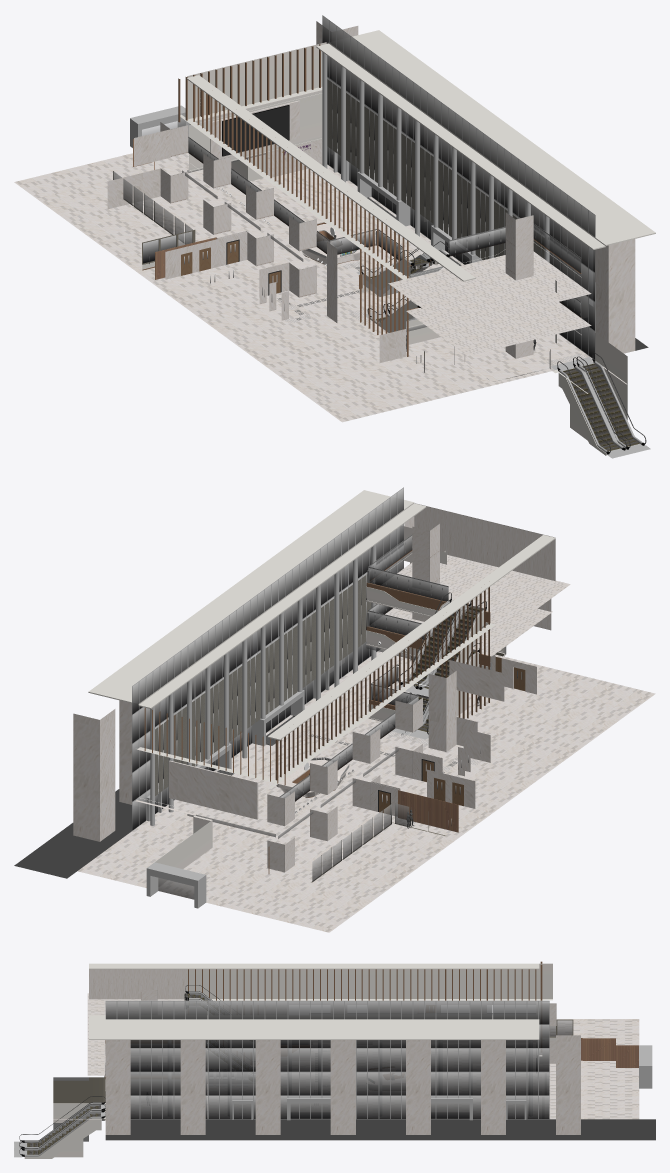
Rendered from hospital.glb.
3 renders of one model, top to bottom at view 1: azimuth 30°, elevation 25°; view 2: azimuth 150°, elevation 25°; view 3: azimuth 270°, elevation 25°, orthographic. The views are drawn at different scales.
Visible parts, largest first — view 1: Plane078_2, blinds, Plane154, floor021, Plane024, Cube001, floor020, Vert, floor019, floor018, floor017, Plane057 (+41 smaller); view 2: Plane078_2, blinds, Plane154, Vert, floor006, Cube001, floor020, Plane146, floor019, floor018, Plane057, floor021 (+37 smaller); view 3: Plane078_2, floor006, Plane053, Plane154, floor001, Plane078_1, Plane155, Plane146, Plane057, Plane151, Plane055, Plane112 (+23 smaller).
Part boxes in pixels (x1,y1,x2,y2): Plane078_2: (322,16,594,359); blinds: (327,79,544,260); Plane154: (328,30,655,245); floor021: (388,251,591,328); Plane024: (187,42,326,171); Cube001: (160,122,316,297); floor020: (14,178,359,422); Vert: (322,52,549,262); floor019: (32,173,377,417); floor018: (50,169,394,413); floor017: (67,165,412,409); Plane057: (193,84,408,278); Plane078_2: (132,488,403,830); blinds: (155,574,371,795); Plane154: (88,490,414,704); Vert: (150,544,376,825); floor006: (73,700,131,841); Cube001: (267,698,422,872); floor020: (312,689,655,932); Plane146: (404,503,555,630); floor019: (294,685,637,928); floor018: (276,681,620,923); Plane057: (275,587,489,780); floor021: (389,555,570,628); Plane078_2: (106,1001,549,1118); floor006: (105,1035,580,1134); Plane053: (186,963,552,1000); Plane154: (89,1019,539,1039); floor001: (105,1119,655,1140); Plane078_1: (105,1000,549,1119); Plane155: (89,963,539,969); Plane146: (89,969,186,999); Plane057: (188,969,536,1000); Plane151: (53,1077,88,1141); Plane055: (581,1038,615,1060); Plane112: (24,1118,101,1158).
Size of what is drawn, in the model's own units: 35.36 by 21.07 by 77.
Materials: 9 (5 with a texture image).
